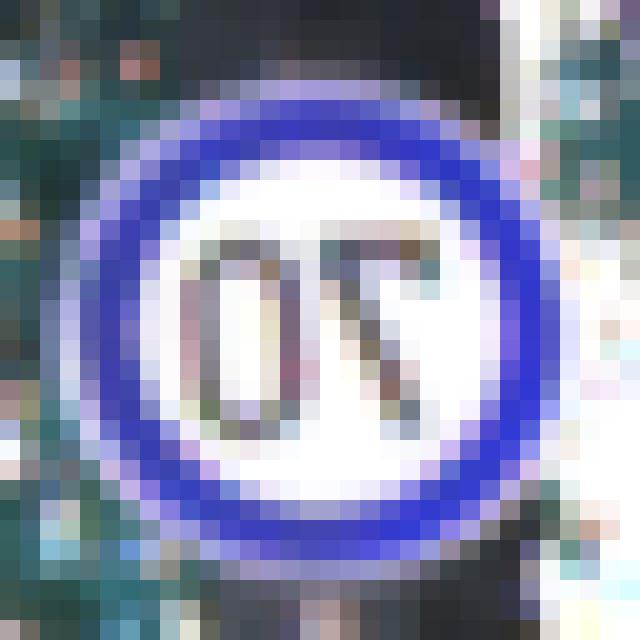SPEED LIMIT 70: (83, 101, 563, 574)
